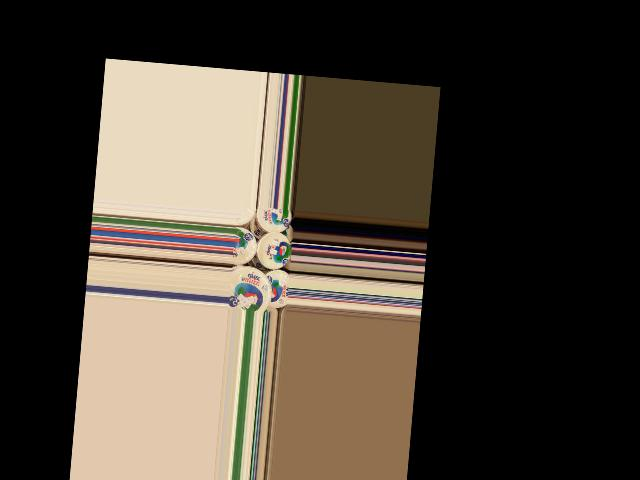cotage: (262, 265, 290, 308)
